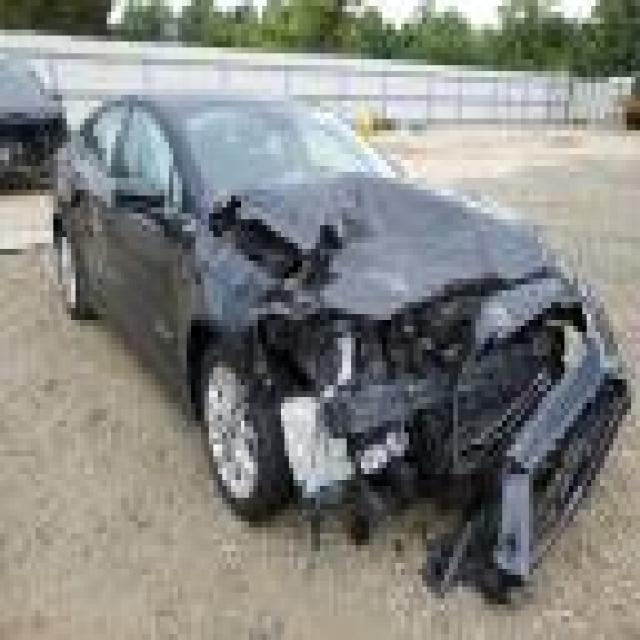moderate: (203, 160, 640, 560)
